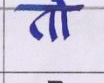o_matra: (56, 0, 71, 38)
